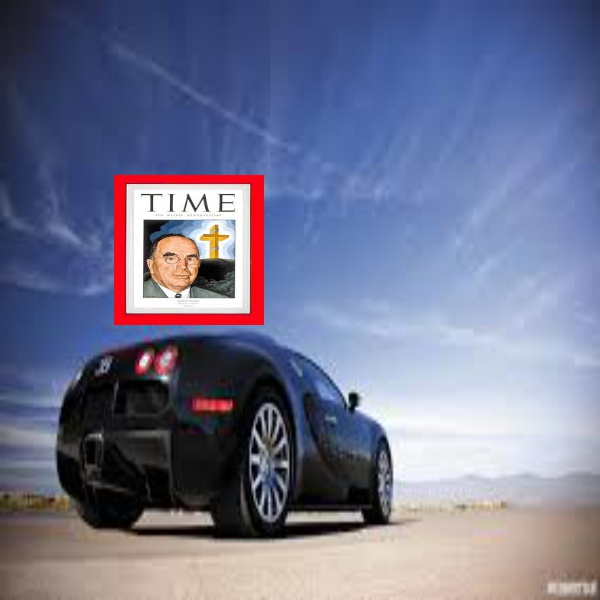time_cover: (106, 173, 262, 326)
